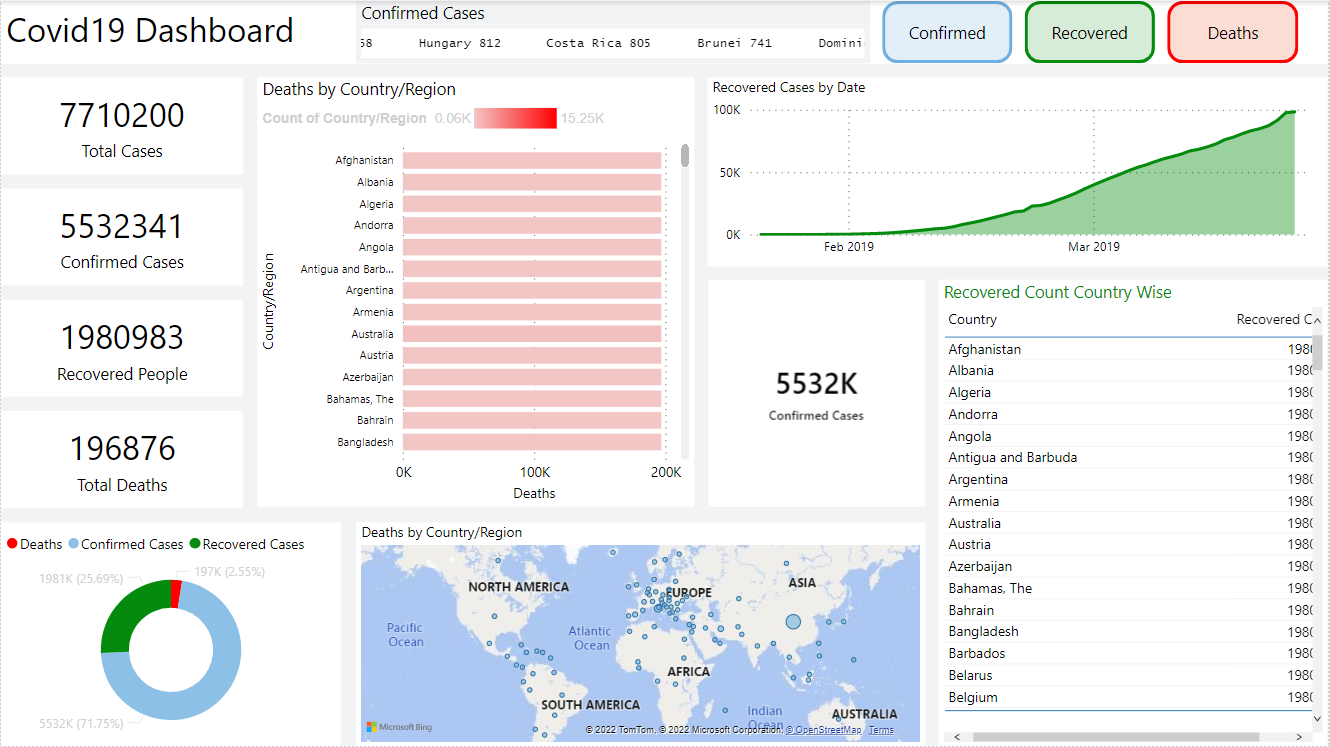

The dashboard page shown, as its layout file describes it:
{"tool":"powerbi","page":{"name":"Covid19 Dashboard","canvas":[1280,720],"ordinal":0},"visuals":[{"type":"textbox","box":[0,0,1280,60.4],"z":0},{"type":"card","fields":{"Values":["Countries.Total Cases"]},"box":[0,74.2,233.5,93.4],"z":1000},{"type":"card","fields":{"Values":["Sum(Confirmed Cases.Confirmed)"]},"box":[0,181.3,233.5,93.4],"z":2000},{"type":"card","fields":{"Values":["Sum(Recovered Cases.Recovered)"]},"box":[0,288.4,233.5,93.4],"z":3000},{"type":"card","fields":{"Values":["Sum(Death Cases.Death)"]},"box":[0,395.5,233.5,93.4],"z":4000},{"type":"donutChart","fields":{"Y":["Sum(Death Cases.Death)","Sum(Confirmed Cases.Confirmed)","Sum(Recovered Cases.Recovered)"]},"box":[0,502.7,328.2,217],"z":5000},{"type":"barChart","fields":{"Category":["Confirmed Cases.Country/Region"],"Y":["Sum(Death Cases.Death)"]},"box":[247.2,74.2,421.6,414.8],"z":6000},{"type":"map","title":"Deaths by Country/Region","fields":{"Category":["Death Cases.Country/Region"],"Size":["Sum(Death Cases.Death)"]},"box":[342,502.7,549.4,217],"z":7000},{"type":"rotatingTile1859AB39DB23400988ADF752BCB9C967","fields":{"measureData":["Countries.Total Cases","Sum(Confirmed Cases.Confirmed)","Sum(Recovered Cases.Recovered)","Sum(Death Cases.Death)"]},"box":[682.6,268.9,208.6,219.5],"z":8000},{"type":"areaChart","title":"Confirmed Cases by Date","fields":{"Y":["Sum(Confirmed Cases.Confirmed)"],"Category":["Confirmed Cases.Date"]},"box":[682.6,74.2,597.4,181.3],"z":9000},{"type":"actionButton","title":"Confirmed","box":[850.3,0,125.4,60.3],"z":10000},{"type":"actionButton","title":"Confirmed","box":[987.7,0,125.4,60.3],"z":12000},{"type":"actionButton","title":"Confirmed","box":[1125.2,0,126.6,60.3],"z":13000},{"type":"ScrollingTextVisual1448795304508","title":"Confirmed Cases","fields":{"Category":["Confirmed Cases.Country/Region"],"Measure Absolute":["Sum(Confirmed Cases.Confirmed)"]},"box":[342.5,0,495.7,60.3],"z":16000},{"type":"tableEx","title":"Confirmed Count Country Wise","fields":{"Values":["Death Cases.Country/Region","Sum(Confirmed Cases.Confirmed)"]},"box":[904.9,268.6,375.1,450.6],"z":18000}]}

Visuals, with their boxes in screenshot pixels (x1, y1, x2, y2), scaled from the page's 1280x720 canvas onto the 1330x747 screenshot:
textbox: (0,0,1329,63)
card - Countries.Total Cases: (0,77,243,174)
card - Sum(Confirmed Cases.Confirmed): (0,188,243,285)
card - Sum(Recovered Cases.Recovered): (0,299,243,396)
card - Sum(Death Cases.Death): (0,410,243,507)
donutChart - Sum(Death Cases.Death) x Sum(Confirmed Cases.Confirmed): (0,522,341,746)
barChart - Confirmed Cases.Country/Region x Sum(Death Cases.Death): (257,77,695,507)
"Deaths by Country/Region" map: (355,522,926,746)
rotatingTile1859AB39DB23400988ADF752BCB9C967 - Countries.Total Cases x Sum(Confirmed Cases.Confirmed): (709,279,926,507)
"Confirmed Cases by Date" areaChart: (709,77,1329,265)
"Confirmed" actionButton: (884,0,1014,63)
"Confirmed" actionButton: (1026,0,1157,63)
"Confirmed" actionButton: (1169,0,1301,63)
"Confirmed Cases" ScrollingTextVisual1448795304508: (356,0,871,63)
"Confirmed Count Country Wise" tableEx: (940,279,1329,746)
